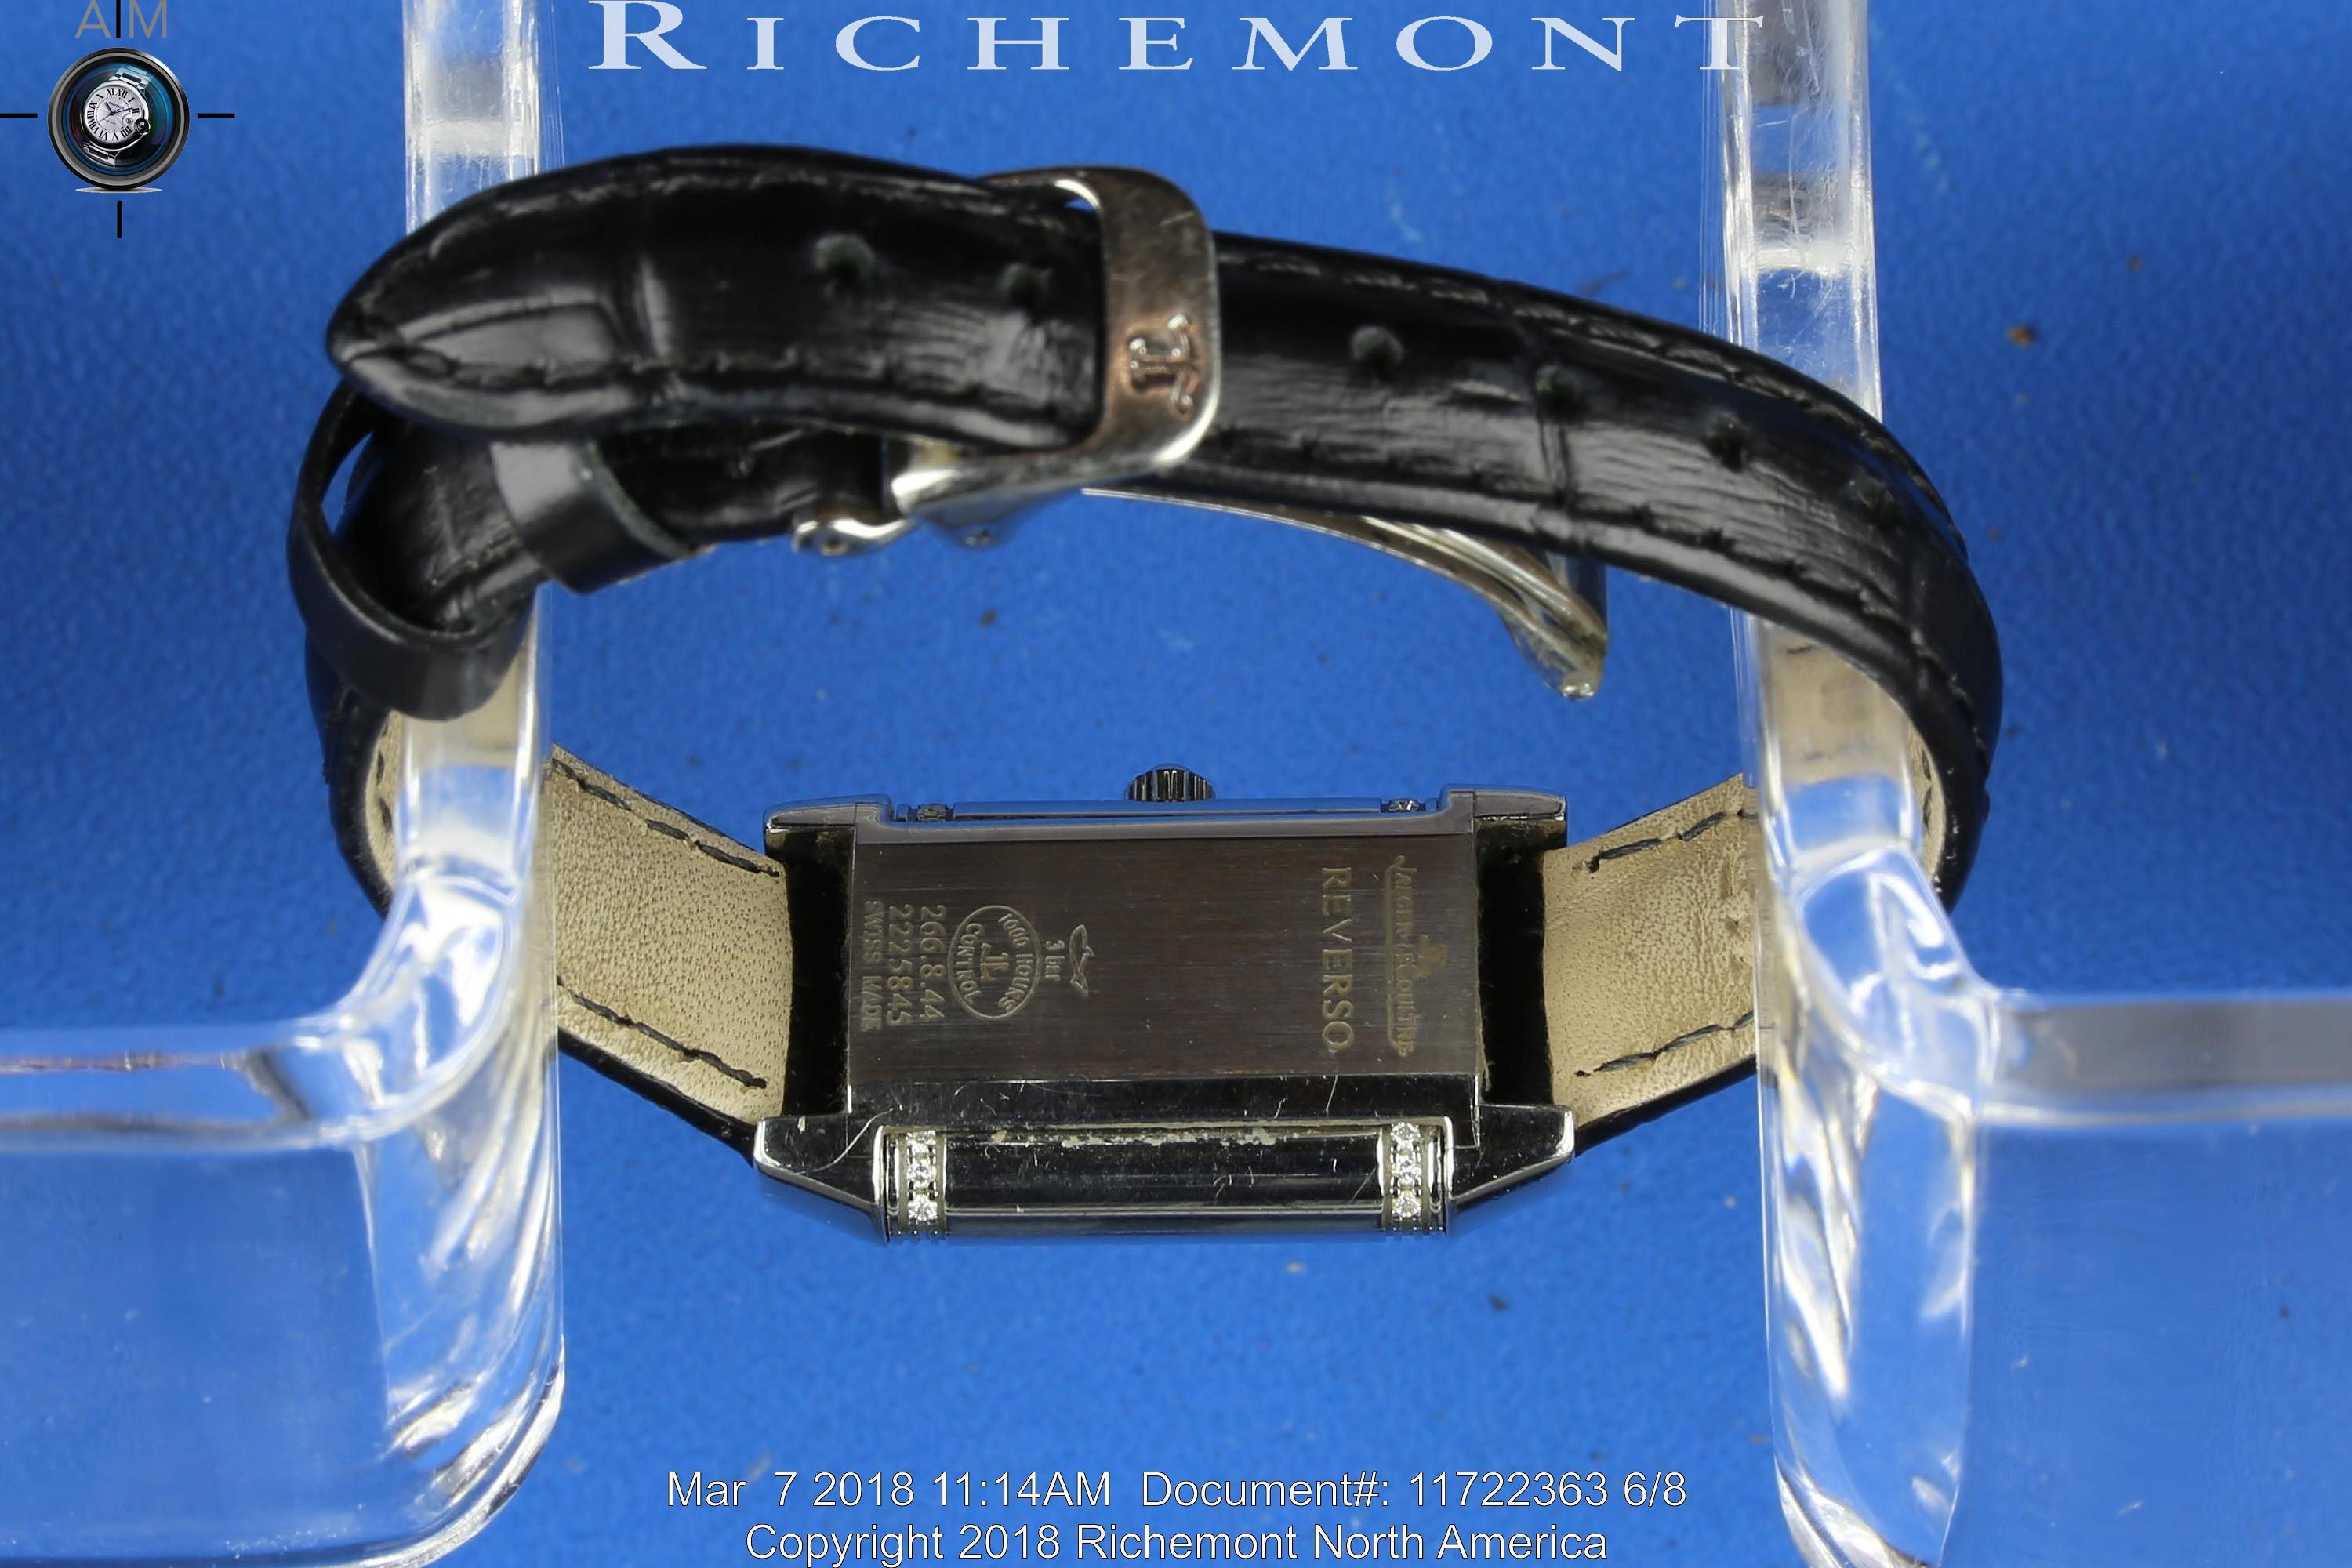Watch Back Case: (761, 761, 1551, 1227)
